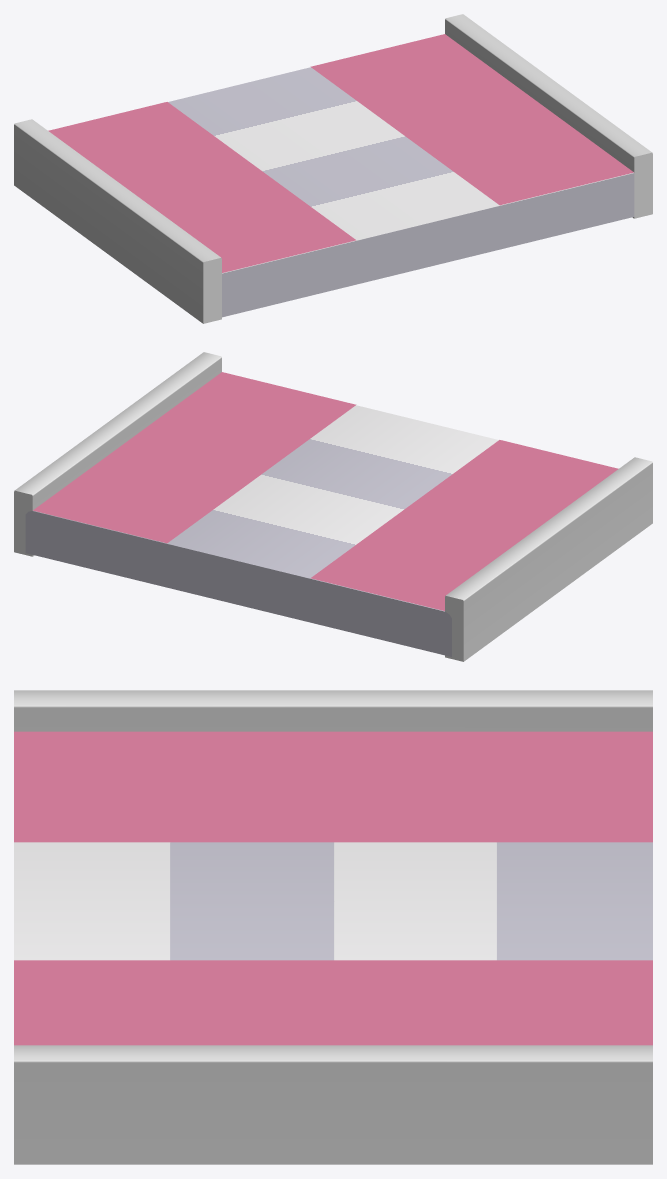
The model's file is Main_Platform.fbx.
The picture shows the model from 3 angles, top to bottom: view 1: azimuth 30°, elevation 25°; view 2: azimuth 150°, elevation 25°; view 3: azimuth 270°, elevation 25°; orthographic projection. The views are drawn at different scales.
Visible parts, largest first — view 1: Platform_7X7, Floor_Right_Side.001, Floor_Left_Side.001, Left_Side, Right_Side; view 2: Platform_7X7, Floor_Right_Side.001, Floor_Left_Side.001, Left_Side, Right_Side; view 3: Right_Side, Platform_7X7, Floor_Left_Side.001, Floor_Right_Side.001, Left_Side.
Part boxes in pixels (x1,y1,x2,y2): Platform_7X7: [168, 67, 634, 317]; Floor_Right_Side.001: [310, 34, 633, 205]; Floor_Left_Side.001: [48, 102, 355, 272]; Left_Side: [14, 119, 221, 323]; Right_Side: [445, 14, 652, 218]; Platform_7X7: [25, 405, 498, 656]; Floor_Right_Side.001: [33, 372, 356, 543]; Floor_Left_Side.001: [311, 440, 618, 610]; Left_Side: [445, 457, 652, 661]; Right_Side: [14, 352, 221, 556]; Right_Side: [14, 1045, 652, 1164]; Platform_7X7: [14, 842, 652, 960]; Floor_Left_Side.001: [14, 731, 652, 842]; Floor_Right_Side.001: [14, 960, 652, 1045]; Left_Side: [14, 690, 652, 731].
Bounding box in the file's own units: 960 × 126 × 700.
